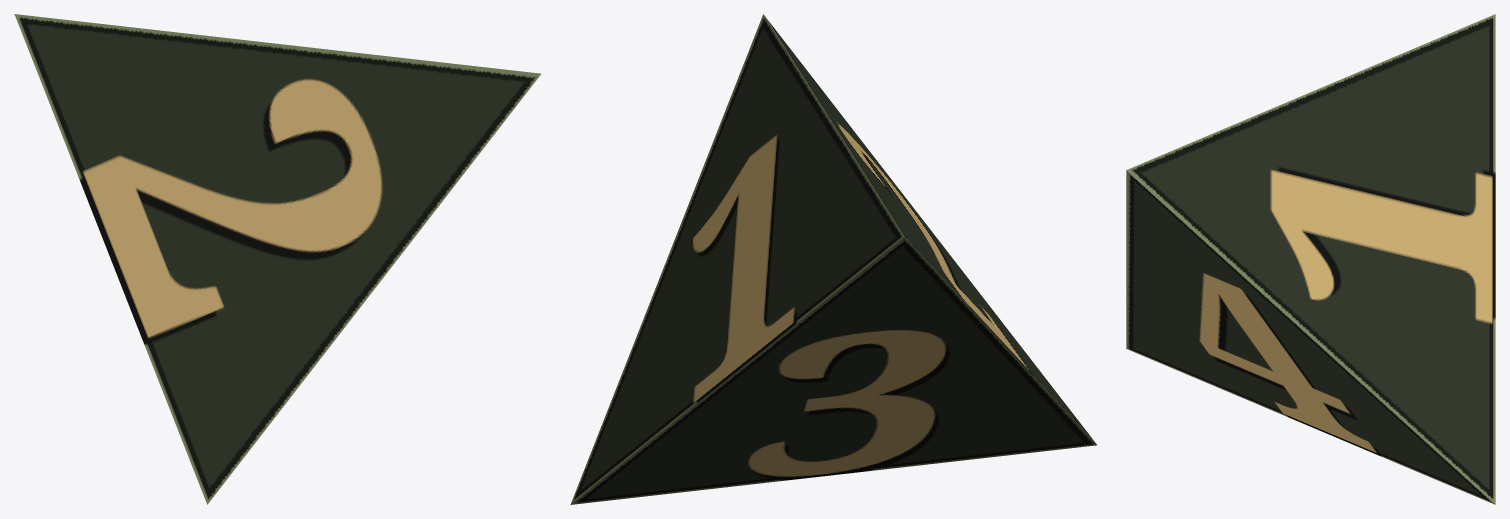
3 views of the same model, side by side, from view 1: azimuth 30°, elevation 25°; view 2: azimuth 150°, elevation 25°; view 3: azimuth 270°, elevation 25° (orthographic). The views are drawn at different scales.
Parts seen in each view (by area): view 1: geometry_0; view 2: geometry_0; view 3: geometry_0.
Part boxes in pixels (<box>): geometry_0: <box>14,14,540,504</box>; geometry_0: <box>570,14,1096,504</box>; geometry_0: <box>1126,14,1495,504</box>.
Size of the model in its own units: 1.13 by 1.13 by 1.13.
Materials: 1 (1 with a texture image).
